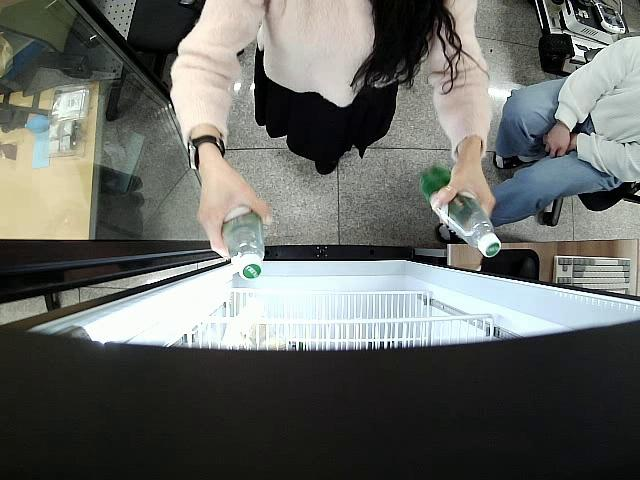00_hand: (195, 168, 273, 259), (432, 161, 497, 221)
18_trevi: (419, 166, 501, 257), (222, 205, 267, 280)
